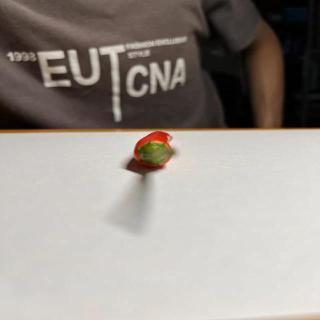Cabai Merah: (133, 131, 179, 169)
